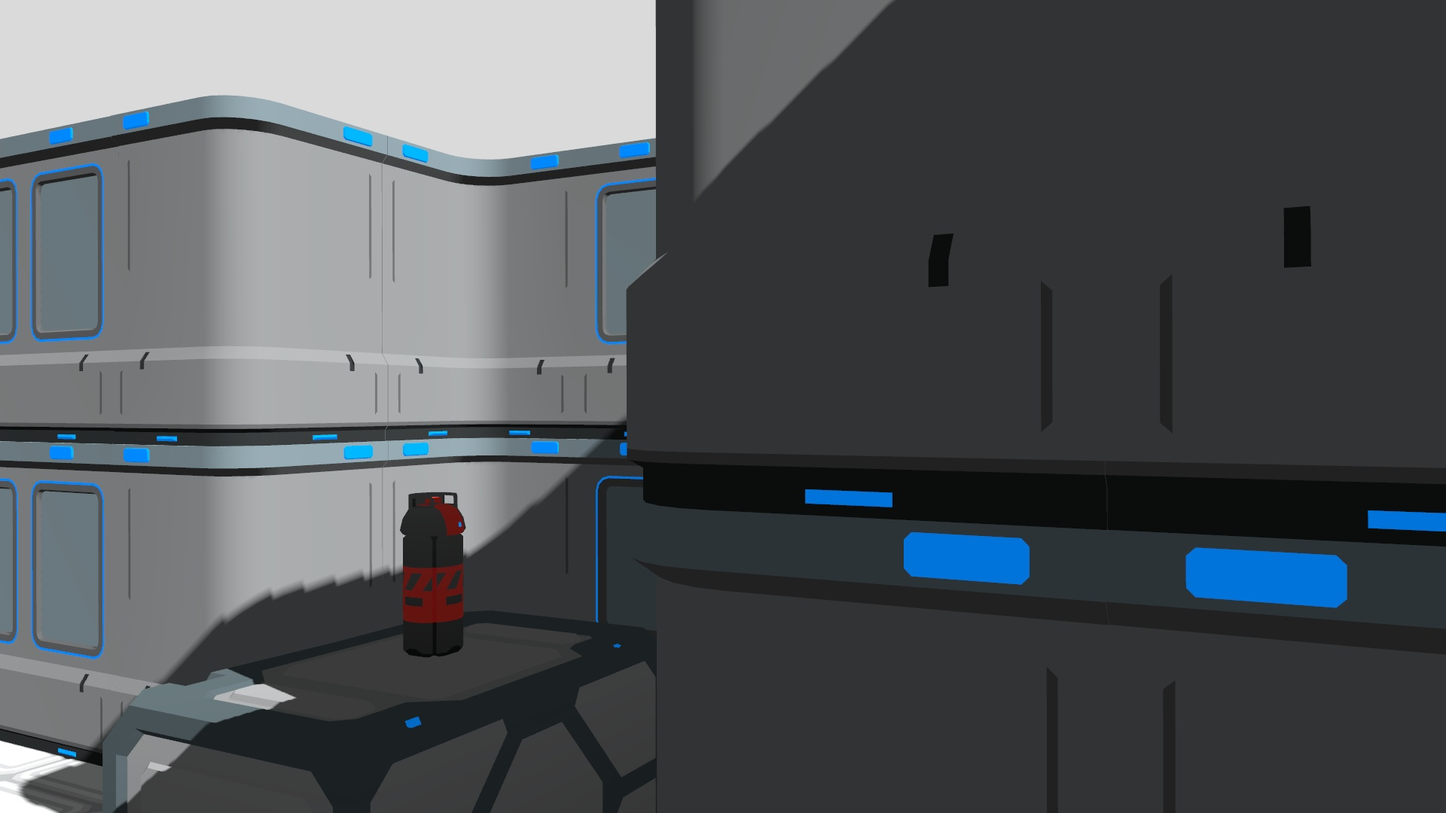red_barrel: (394, 488, 470, 660)
